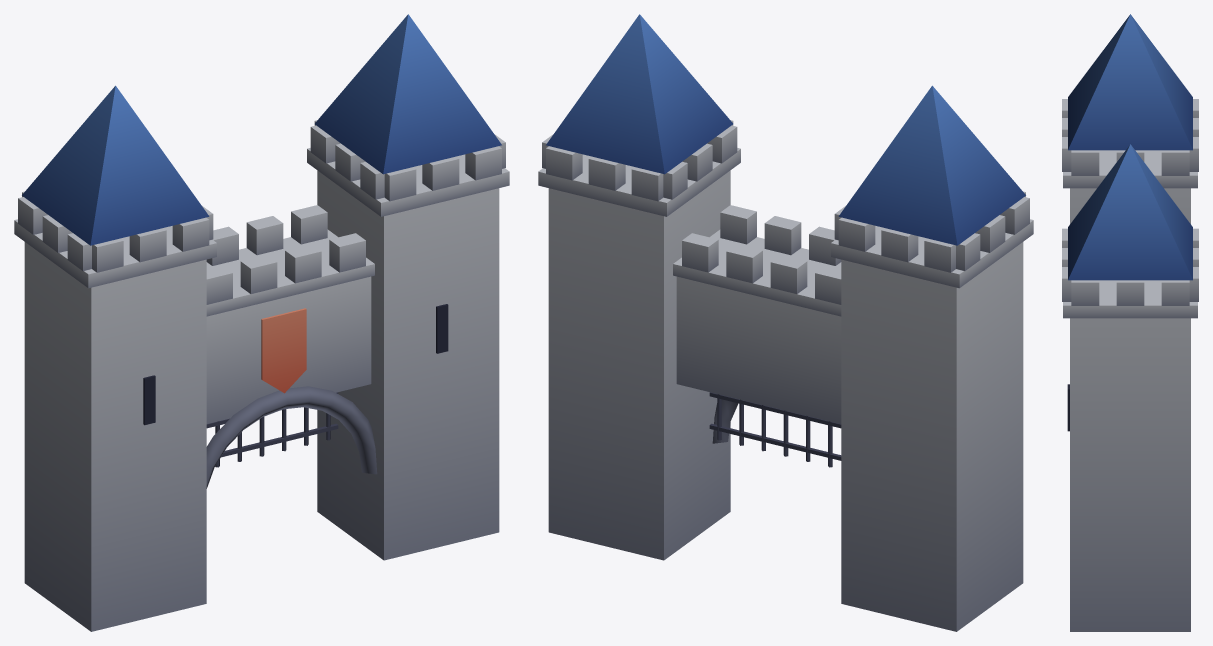
The model's file is castle_gatehouse.glb.
The picture shows the model from 3 angles, left to right: view 1: azimuth 30°, elevation 25°; view 2: azimuth 150°, elevation 25°; view 3: azimuth 270°, elevation 25°; orthographic projection. The views are drawn at different scales.
Visible parts, largest first — view 1: castle_gatehouse; view 2: castle_gatehouse; view 3: castle_gatehouse.
Part boxes in pixels (box(x1,y1,x2,y2)): castle_gatehouse: box(14, 14, 509, 631); castle_gatehouse: box(538, 14, 1033, 631); castle_gatehouse: box(1062, 14, 1198, 631).
Bounding box in the file's own units: 9.54 × 10.95 × 2.94.
